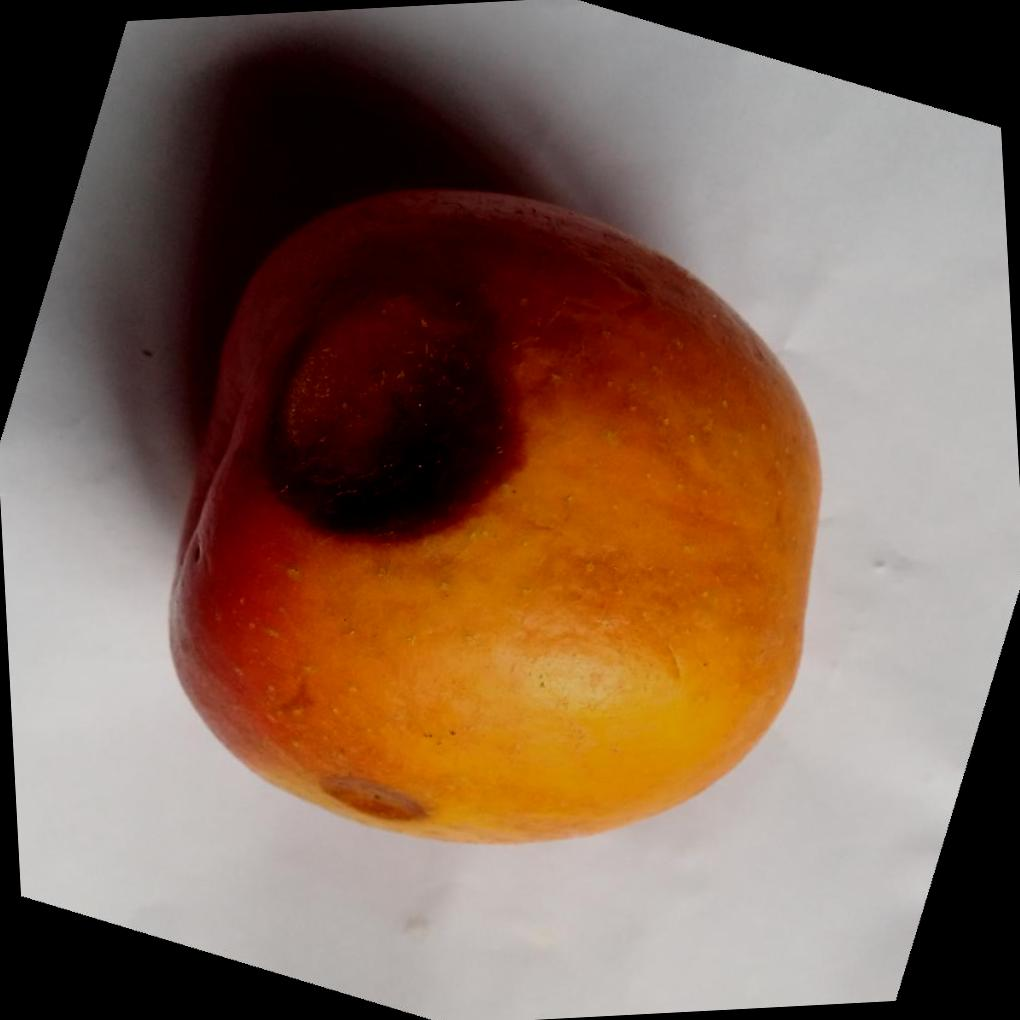FreshOrange: (166, 180, 821, 842)
